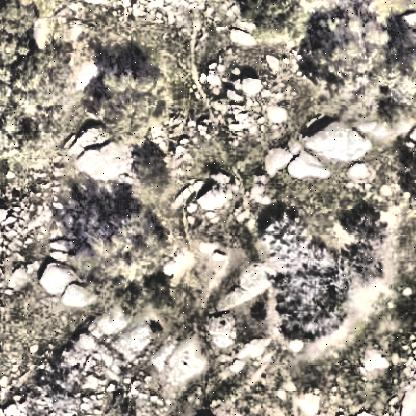tree-top: (258, 206, 393, 341), (52, 191, 181, 321), (304, 1, 416, 128), (1, 1, 66, 138), (89, 64, 177, 146), (228, 1, 310, 45)
